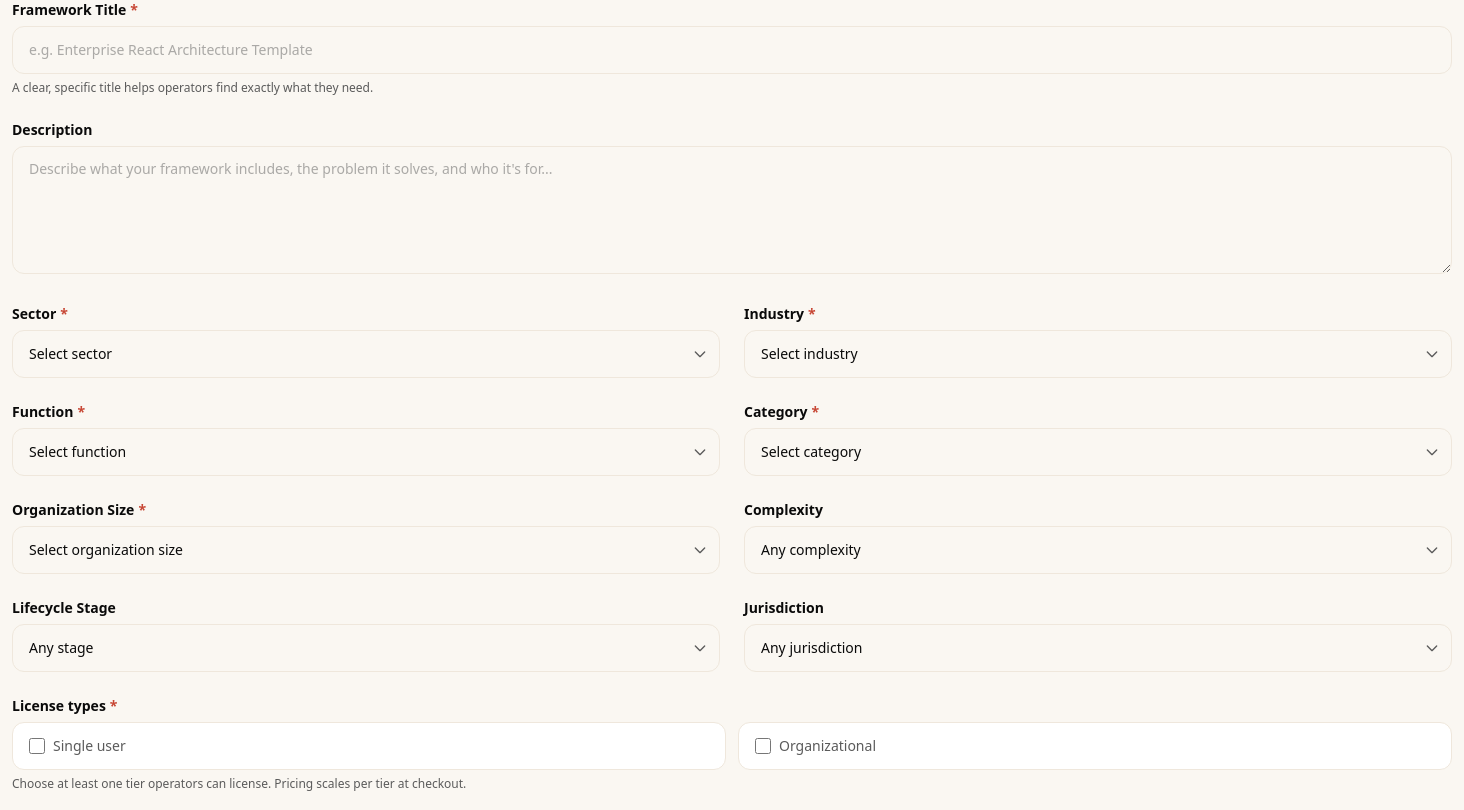
Test case: FrameworkForm org pricing tier › reveals the org price field only when the organizational tier is selected
Expected: the field labelled "organization price" is not shown
Click the checkbox labelled "Organizational" at {"x": 763, "y": 746}, box [755,738,771,754]
(page scrolled)
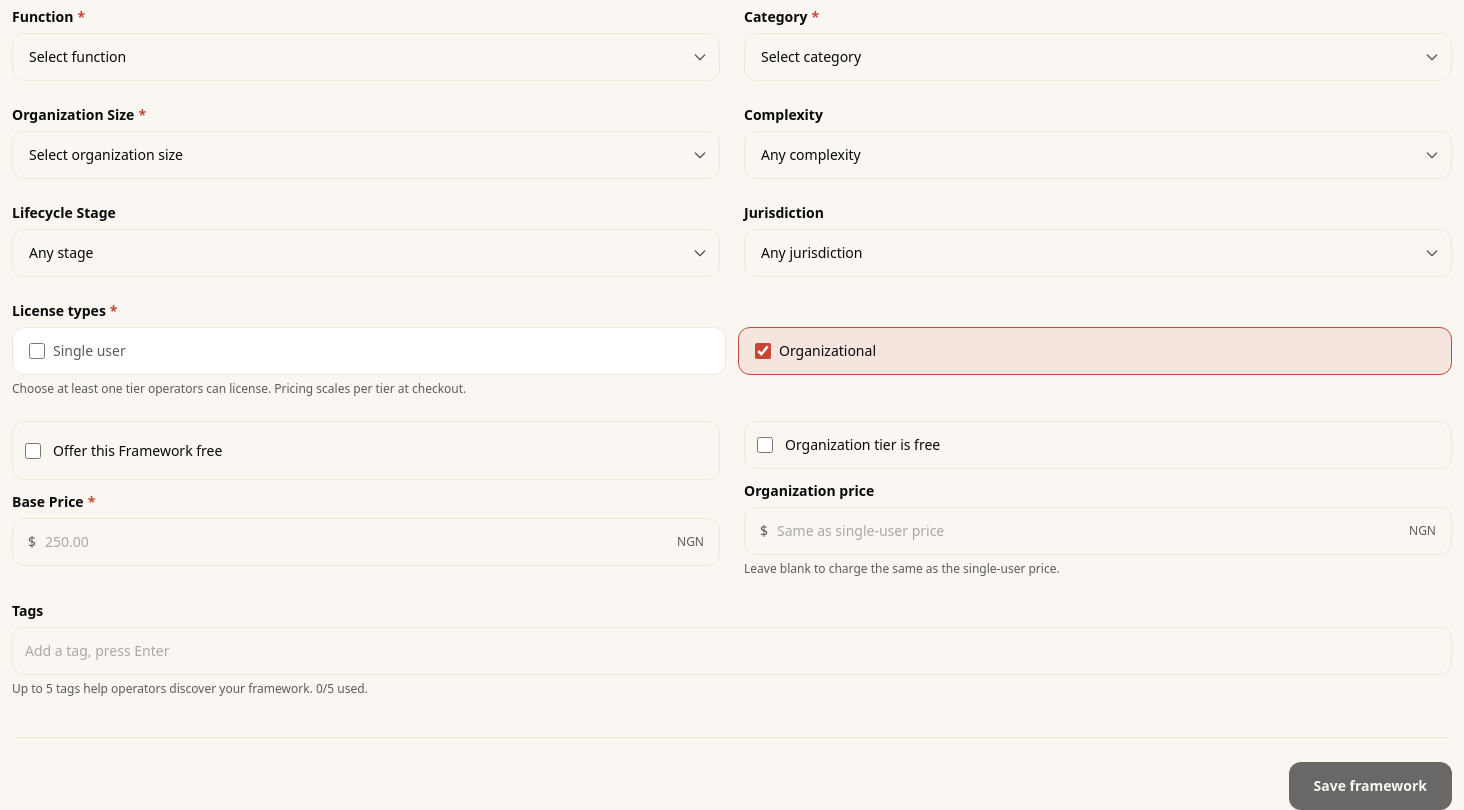
Expected: the field labelled "Organization price" is shown, [744,507,1452,555]
